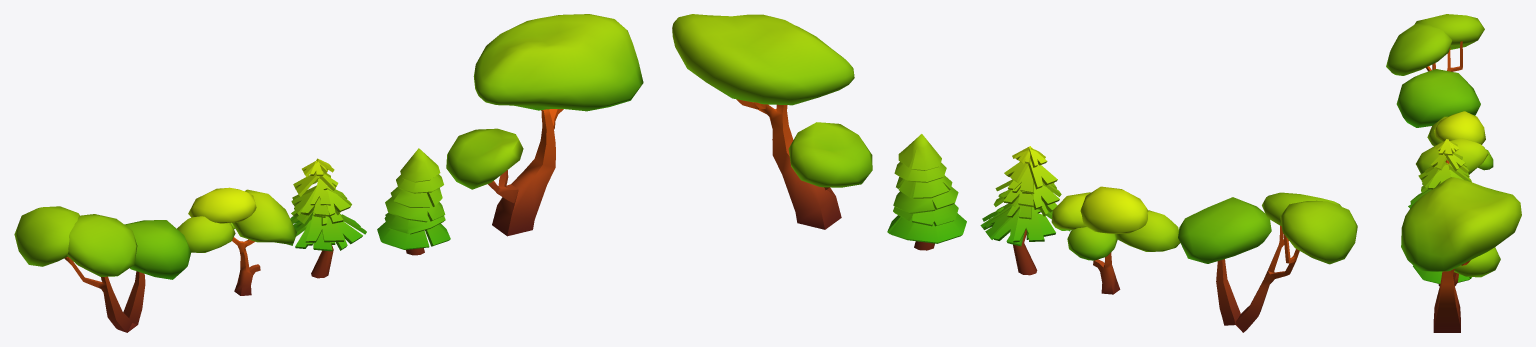
File: low_poly_stylized_tree_pack.glb
3 renders of one model, left to right at view 1: azimuth 30°, elevation 25°; view 2: azimuth 150°, elevation 25°; view 3: azimuth 270°, elevation 25°, orthographic. The views are drawn at different scales.
Visible parts, largest first — view 1: 05-tree-root_gradinet-image-texure_0, 03-tree-root_gradinet-image-texure_0, 02-tree-root_gradinet-image-texure_0, 04-tree-root_gradinet-image-texure_0, 01-tree-root_gradinet-image-texure_0; view 2: 05-tree-root_gradinet-image-texure_0, 03-tree-root_gradinet-image-texure_0, 02-tree-root_gradinet-image-texure_0, 04-tree-root_gradinet-image-texure_0, 01-tree-root_gradinet-image-texure_0; view 3: 05-tree-root_gradinet-image-texure_0, 03-tree-root_gradinet-image-texure_0, 02-tree-root_gradinet-image-texure_0, 01-tree-root_gradinet-image-texure_0, 04-tree-root_gradinet-image-texure_0.
Boxes of the visible parts, x1,y1,x2,y2 form: 05-tree-root_gradinet-image-texure_0: [446, 14, 643, 236]; 03-tree-root_gradinet-image-texure_0: [14, 206, 191, 332]; 02-tree-root_gradinet-image-texure_0: [177, 187, 296, 295]; 04-tree-root_gradinet-image-texure_0: [377, 148, 450, 255]; 01-tree-root_gradinet-image-texure_0: [290, 158, 366, 278]; 05-tree-root_gradinet-image-texure_0: [672, 14, 872, 229]; 03-tree-root_gradinet-image-texure_0: [1178, 192, 1357, 332]; 02-tree-root_gradinet-image-texure_0: [1051, 186, 1180, 294]; 04-tree-root_gradinet-image-texure_0: [887, 134, 966, 250]; 01-tree-root_gradinet-image-texure_0: [980, 146, 1069, 275]; 05-tree-root_gradinet-image-texure_0: [1401, 177, 1521, 332]; 03-tree-root_gradinet-image-texure_0: [1386, 14, 1484, 127]; 02-tree-root_gradinet-image-texure_0: [1416, 111, 1493, 174]; 01-tree-root_gradinet-image-texure_0: [1408, 139, 1471, 208]; 04-tree-root_gradinet-image-texure_0: [1413, 265, 1471, 286].
Size of the model in its own units: 63.77 by 18.01 by 13.67.
1 material, 1 textured.
